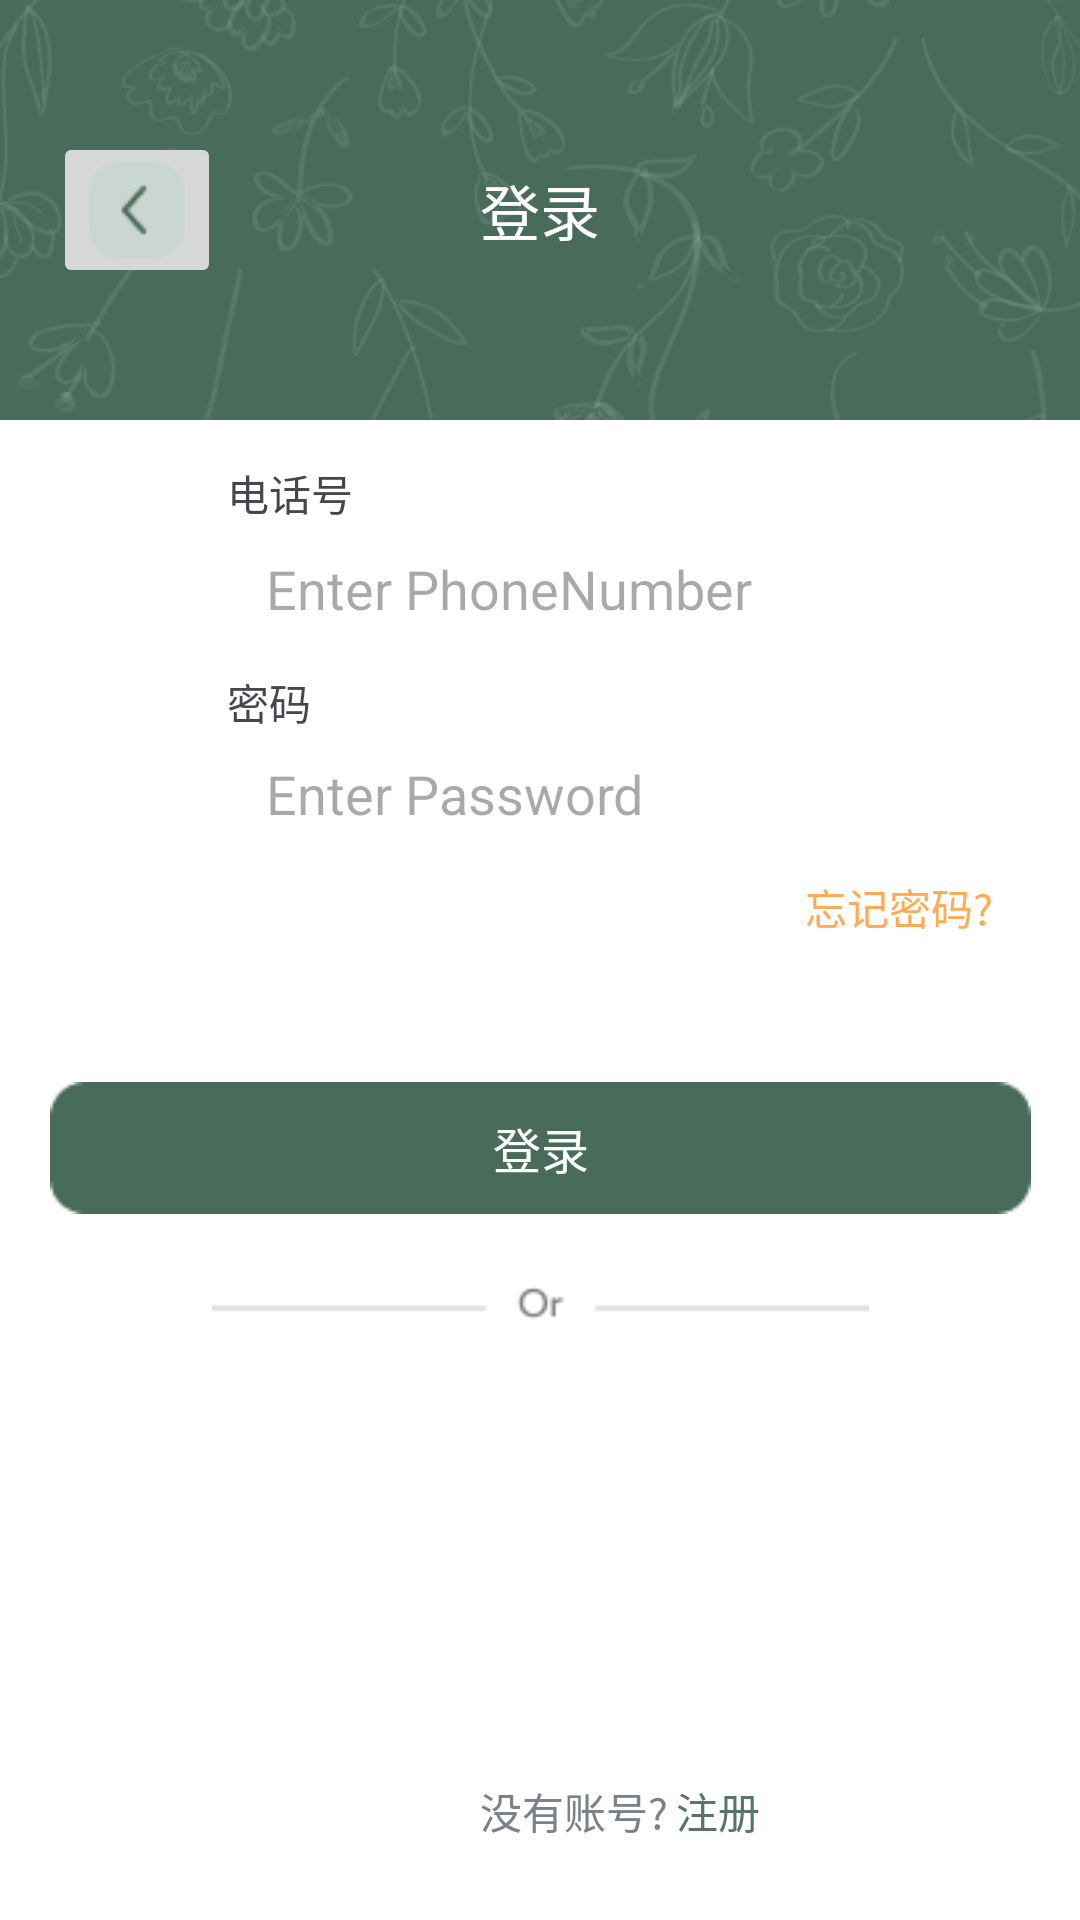

Locate icon controls on the screen. Image size 1080w x 1920h, boxes as [left=x1, top=y1, right=x2, bottom=y2].
back: [left=121, top=185, right=147, bottom=235]
